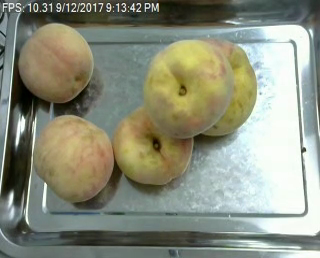Peach: (144, 38, 234, 138), (34, 115, 115, 203), (113, 105, 193, 184), (18, 23, 94, 103)
